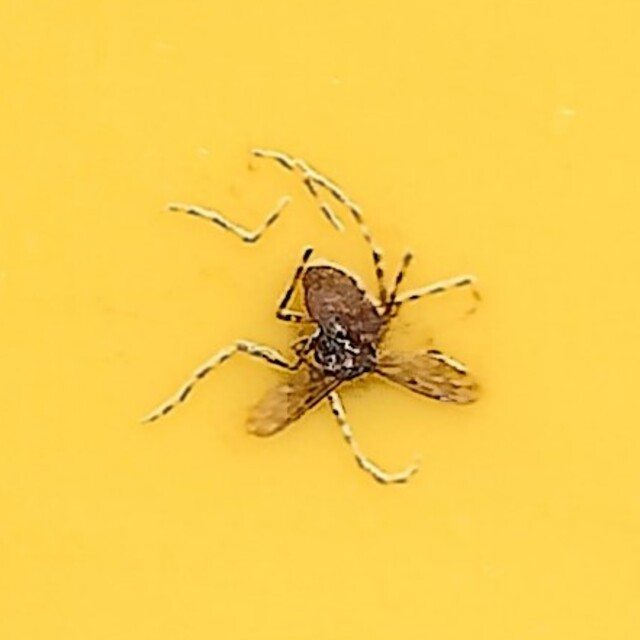Nematocera: (145, 147, 495, 493)
